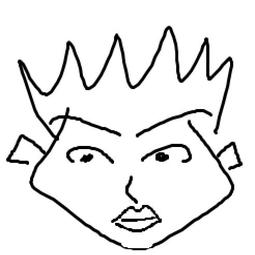cupid_mouth: (111, 204, 162, 233)
eye: (134, 142, 197, 169), (62, 146, 115, 164)
frowning_eyebrow: (134, 104, 215, 139), (48, 113, 122, 139)
pointy_nose: (119, 171, 140, 205)
